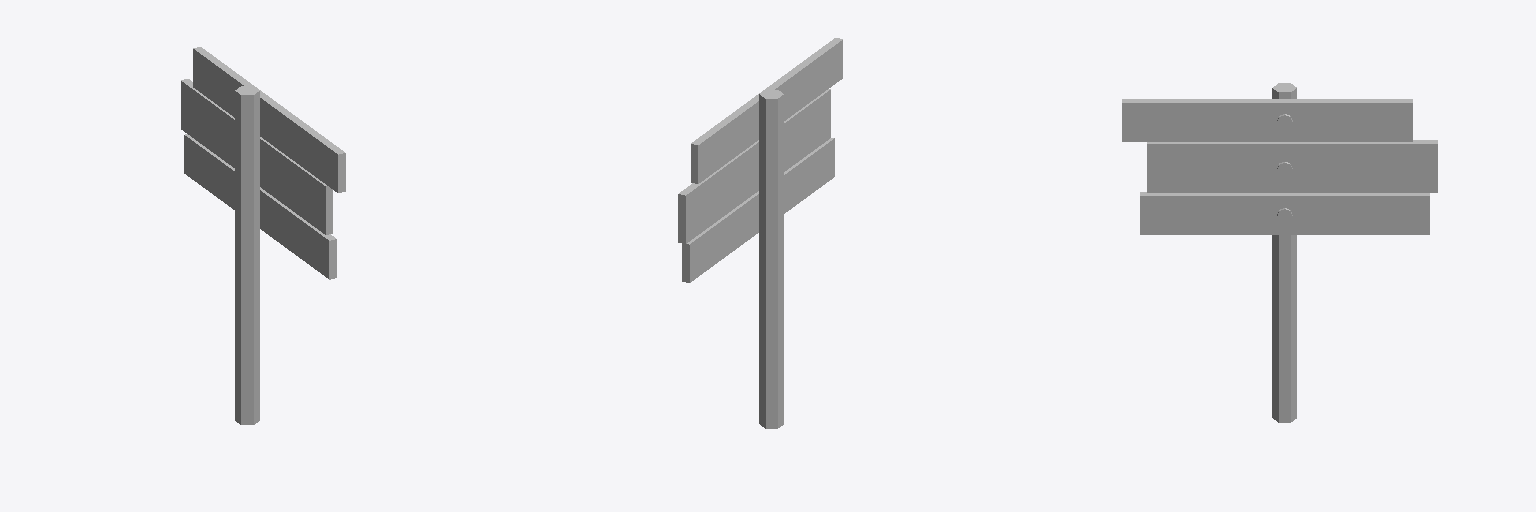
Rendered from sign.obj.
3 views of the same model, side by side, from view 1: azimuth 30°, elevation 25°; view 2: azimuth 150°, elevation 25°; view 3: azimuth 270°, elevation 25° (orthographic).
Visible parts, largest first — view 1: Cylinder.001; view 2: Cylinder.001; view 3: Cylinder.001.
Boxes of the visible parts, <box> form: Cylinder.001: <box>181,47,345,424</box>; Cylinder.001: <box>678,38,842,428</box>; Cylinder.001: <box>1122,83,1437,422</box>.
Size of the model in its own units: 2.87 by 29.22 by 25.28.